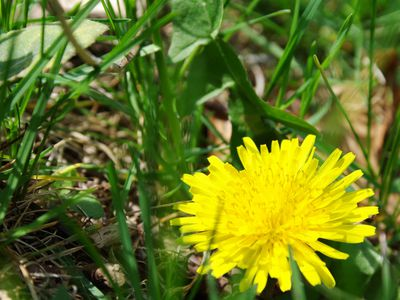dandelion: (178, 151, 356, 277)
